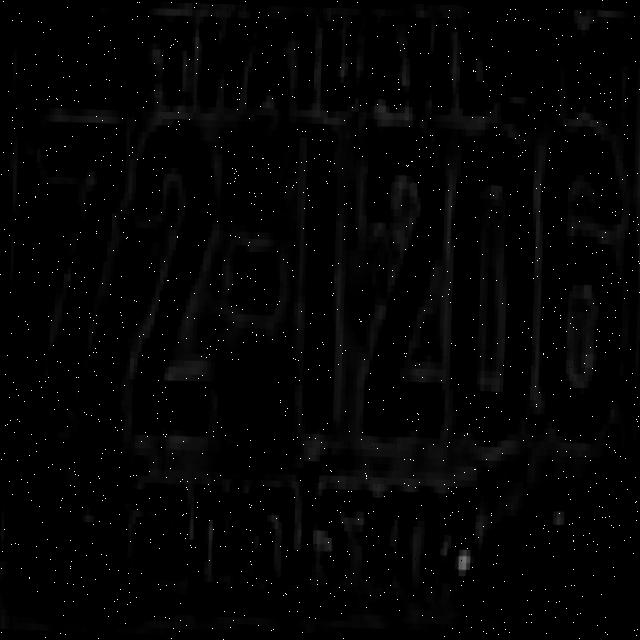0: (443, 128, 535, 434)
1: (297, 124, 334, 420)
2: (358, 122, 446, 428), (129, 118, 213, 423)
6: (534, 124, 622, 430)
7: (31, 111, 119, 423)
SamutPrakan: (115, 446, 488, 609)
